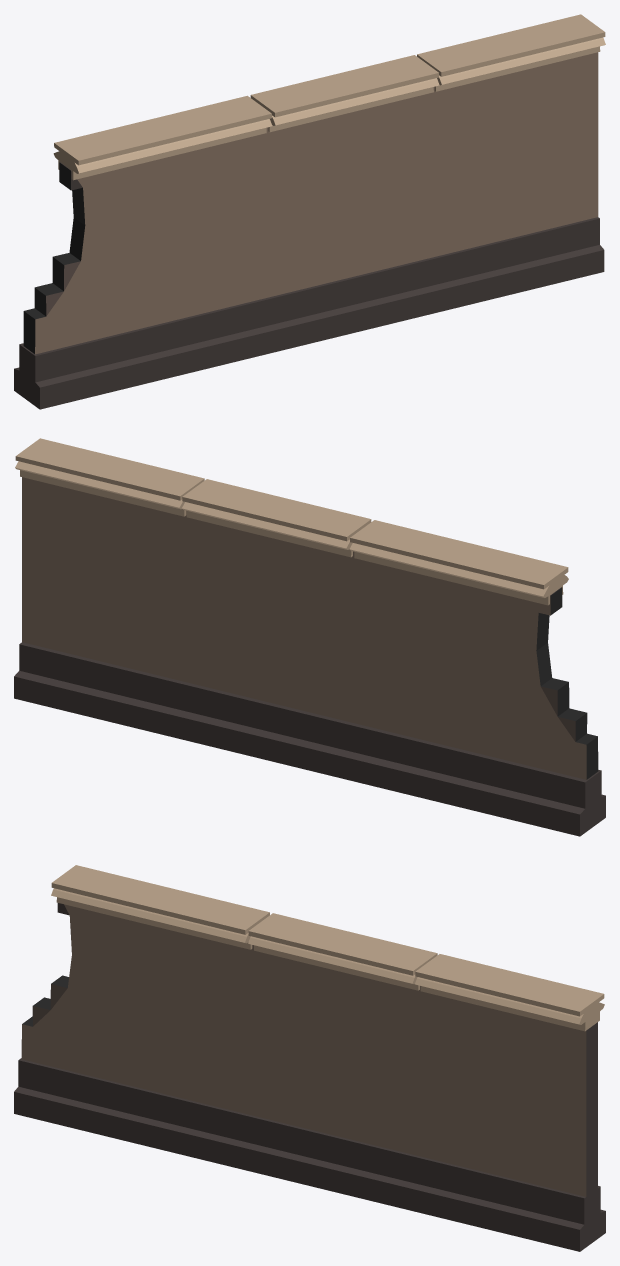
Rendered from ruin6.fbx.
3 views of the same model, one above another, from view 1: azimuth 30°, elevation 25°; view 2: azimuth 150°, elevation 25°; view 3: azimuth 330°, elevation 25° (orthographic).
Visible parts, largest first — view 1: Object.004; view 2: Object.004; view 3: Object.004.
Boxes of the visible parts, bbox=[...] form: Object.004: bbox=[14, 14, 605, 409]; Object.004: bbox=[14, 438, 605, 836]; Object.004: bbox=[14, 865, 605, 1251].
Size of the model in its own units: 13412 by 5445 by 1112.
